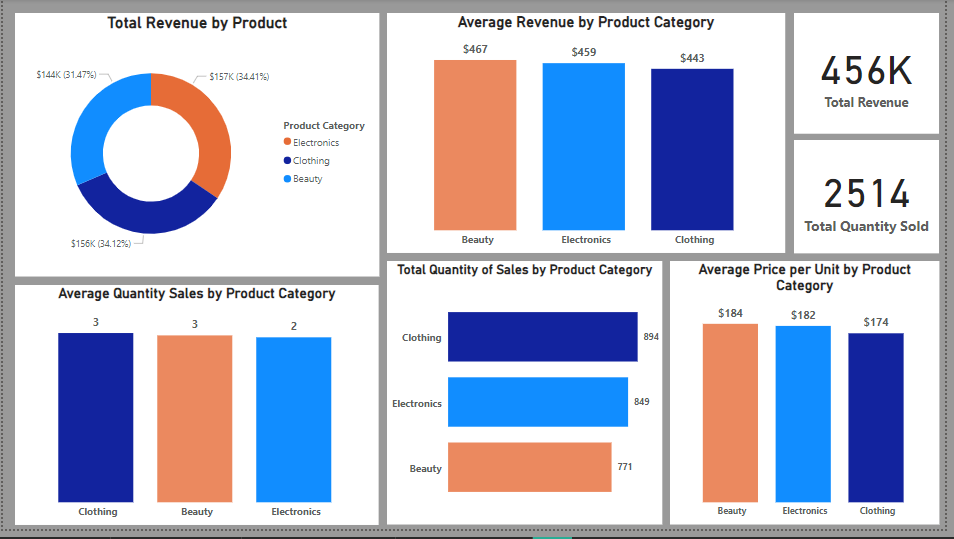

The dashboard page shown, as its layout file describes it:
{"tool":"powerbi","page":{"name":"Product Analysis","canvas":[1280,720],"ordinal":1},"visuals":[{"type":"donutChart","title":"Total Revenue by Product","fields":{"Category":["retail_sales_dataset.Product Category"],"Y":["Sum(retail_sales_dataset.Total Amount)"]},"box":[16.5,19.3,495.5,357.8],"z":0},{"type":"columnChart","title":"Average Revenue by Product Category","fields":{"Category":["retail_sales_dataset.Product Category"],"Y":["Avg(retail_sales_dataset.Total Amount)"]},"box":[521.6,19.3,540.9,326.2],"z":1000},{"type":"clusteredColumnChart","title":"Average Quantity Sales by Product Category","fields":{"Category":["retail_sales_dataset.Product Category"],"Y":["Avg(retail_sales_dataset.Quantity)"]},"box":[16.5,388.1,494.1,326.2],"z":2000},{"type":"clusteredColumnChart","title":"Average Price per Unit by Product Category","fields":{"Category":["retail_sales_dataset.Product Category"],"Y":["Avg(retail_sales_dataset.Price per Unit)"]},"box":[905.6,356.5,366.1,357.8],"z":3000},{"type":"barChart","title":"Total Quantity of Sales by Product Category","fields":{"Category":["retail_sales_dataset.Product Category"],"Y":["Sum(retail_sales_dataset.Quantity)"]},"box":[521.6,356.5,374.4,357.8],"z":4000},{"type":"card","fields":{"Values":["Sum(retail_sales_dataset.Quantity)"]},"box":[1074.9,191.3,196.8,154.2],"z":5000},{"type":"card","fields":{"Values":["Sum(retail_sales_dataset.Total Amount)"]},"box":[1074.9,19.3,196.8,163.8],"z":6000}]}

Visuals, with their boxes in screenshot pixels (x1, y1, x2, y2), scaled from the page's 1280x720 canvas onto the 954x539 screenshot:
"Total Revenue by Product" donutChart: (left=12, top=14, right=382, bottom=282)
"Average Revenue by Product Category" columnChart: (left=389, top=14, right=792, bottom=259)
"Average Quantity Sales by Product Category" clusteredColumnChart: (left=12, top=291, right=381, bottom=535)
"Average Price per Unit by Product Category" clusteredColumnChart: (left=675, top=267, right=948, bottom=535)
"Total Quantity of Sales by Product Category" barChart: (left=389, top=267, right=668, bottom=535)
card - Sum(retail_sales_dataset.Quantity): (left=801, top=143, right=948, bottom=259)
card - Sum(retail_sales_dataset.Total Amount): (left=801, top=14, right=948, bottom=137)
